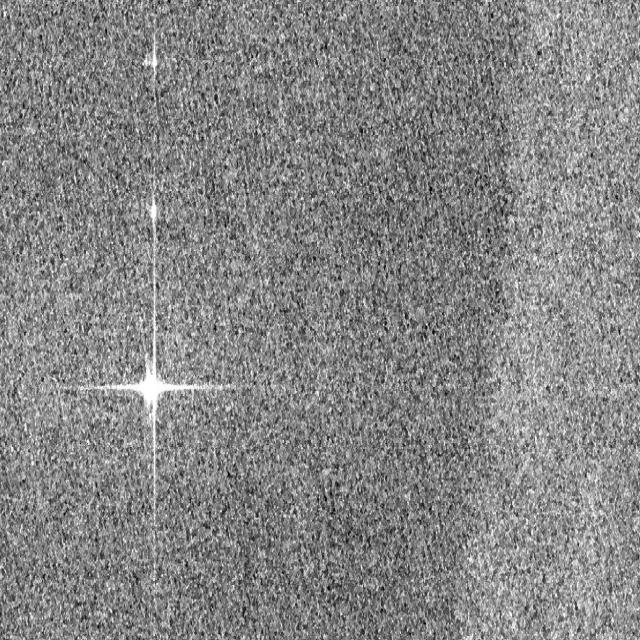ship: (66, 280, 239, 548), (142, 184, 168, 274), (141, 30, 167, 96)
